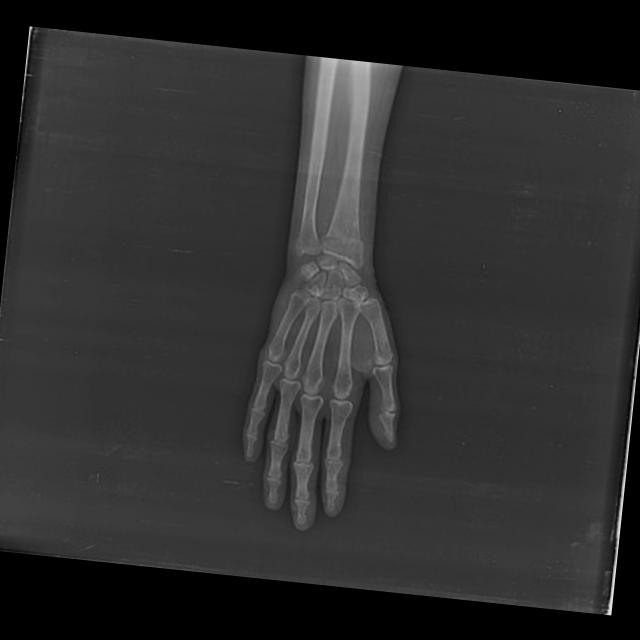fractured: (318, 226, 364, 257)
